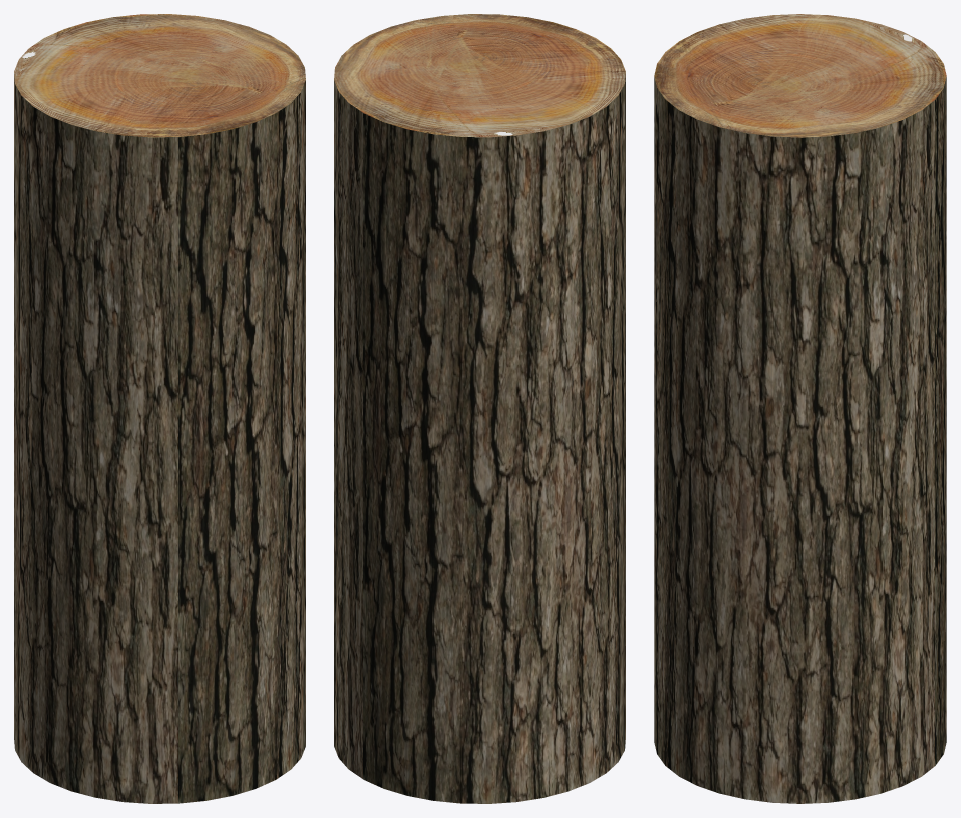
File: LogCut.obj
3 views of the same model, side by side, from view 1: azimuth 30°, elevation 25°; view 2: azimuth 150°, elevation 25°; view 3: azimuth 270°, elevation 25° (orthographic).
Parts seen in each view (by area): view 1: Cylinder; view 2: Cylinder; view 3: Cylinder.
Part boxes in pixels (x1,y1,x2,y2): Cylinder: (14,14,305,803); Cylinder: (334,14,625,803); Cylinder: (654,14,946,803).
Bounding box in the file's own units: 1.4 × 3.52 × 1.4.
2 materials, 2 textured.
